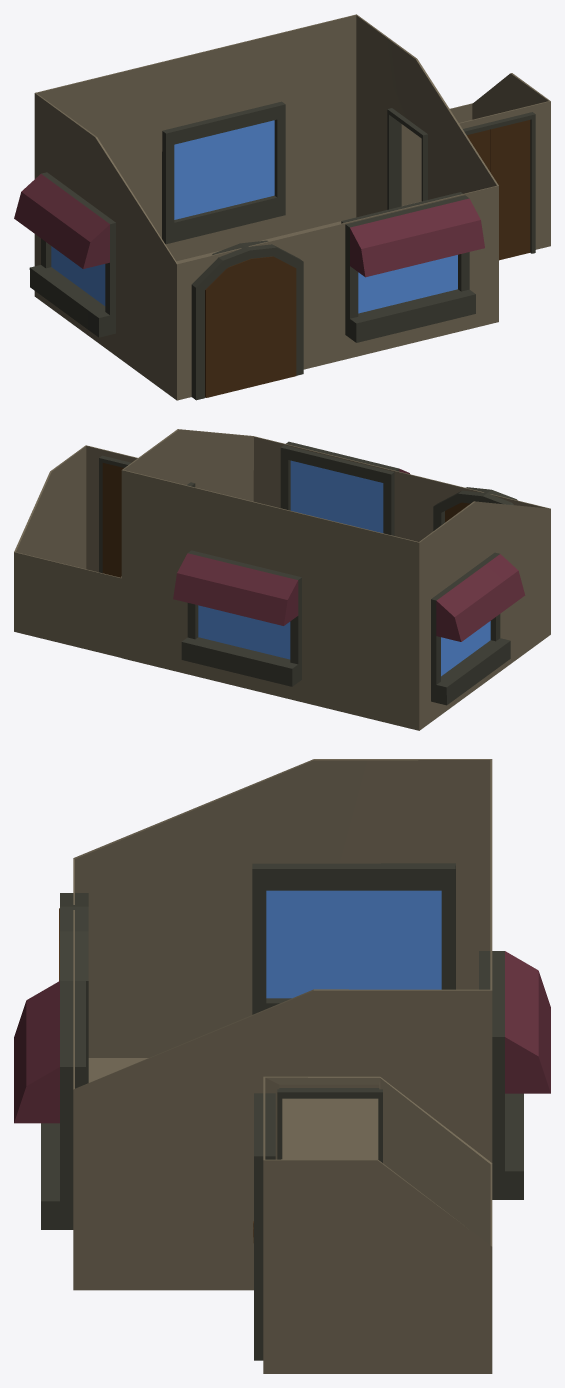
File: CajaCasa 2.2 Interior.fbx
3 views of the same model, one above another, from view 1: azimuth 30°, elevation 25°; view 2: azimuth 150°, elevation 25°; view 3: azimuth 270°, elevation 25° (orthographic). The views are drawn at different scales.
Visible parts, largest first — view 1: Cube.002; view 2: Cube.002; view 3: Cube.002.
Part boxes in pixels (<box>): Cube.002: <box>14,14,550,400</box>; Cube.002: <box>14,429,550,730</box>; Cube.002: <box>14,759,550,1373</box>.
Size of the model in its own units: 924 by 384 by 619.
